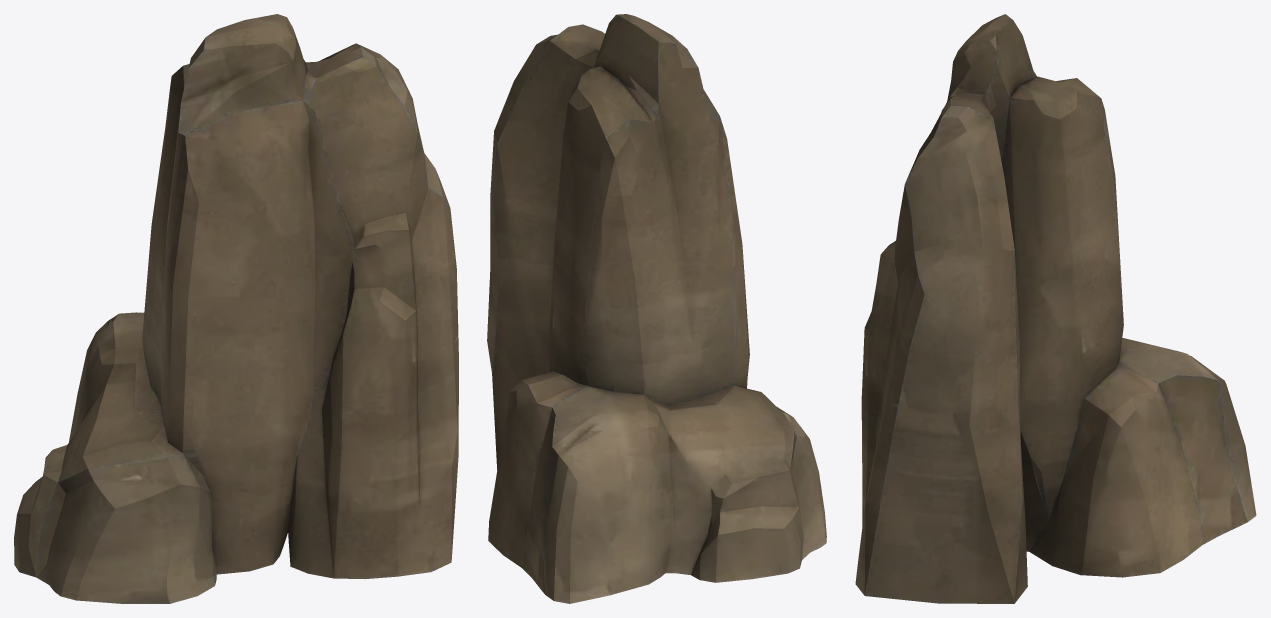
The picture shows the model from 3 angles, left to right: view 1: azimuth 30°, elevation 25°; view 2: azimuth 150°, elevation 25°; view 3: azimuth 270°, elevation 25°; orthographic projection. The views are drawn at different scales.
Parts seen in each view (by area): view 1: body0_model0_lod0_mesh0; view 2: body0_model0_lod0_mesh0; view 3: body0_model0_lod0_mesh0.
Boxes of the visible parts, x1,y1,x2,y2 form: body0_model0_lod0_mesh0: (14, 14, 458, 603); body0_model0_lod0_mesh0: (487, 14, 826, 603); body0_model0_lod0_mesh0: (855, 14, 1256, 603).
Size of the model in its own units: 286 by 379 by 270.
1 material, 1 textured.
